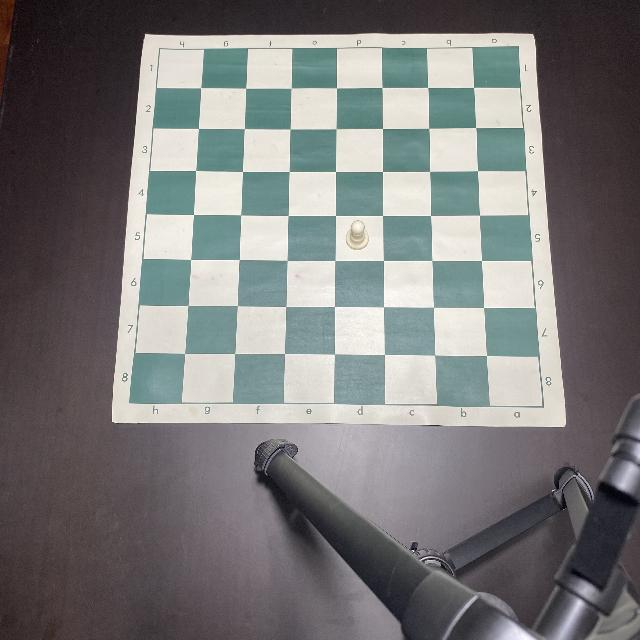board: (110, 33, 566, 427)
white-pawn: (345, 220, 369, 250)
